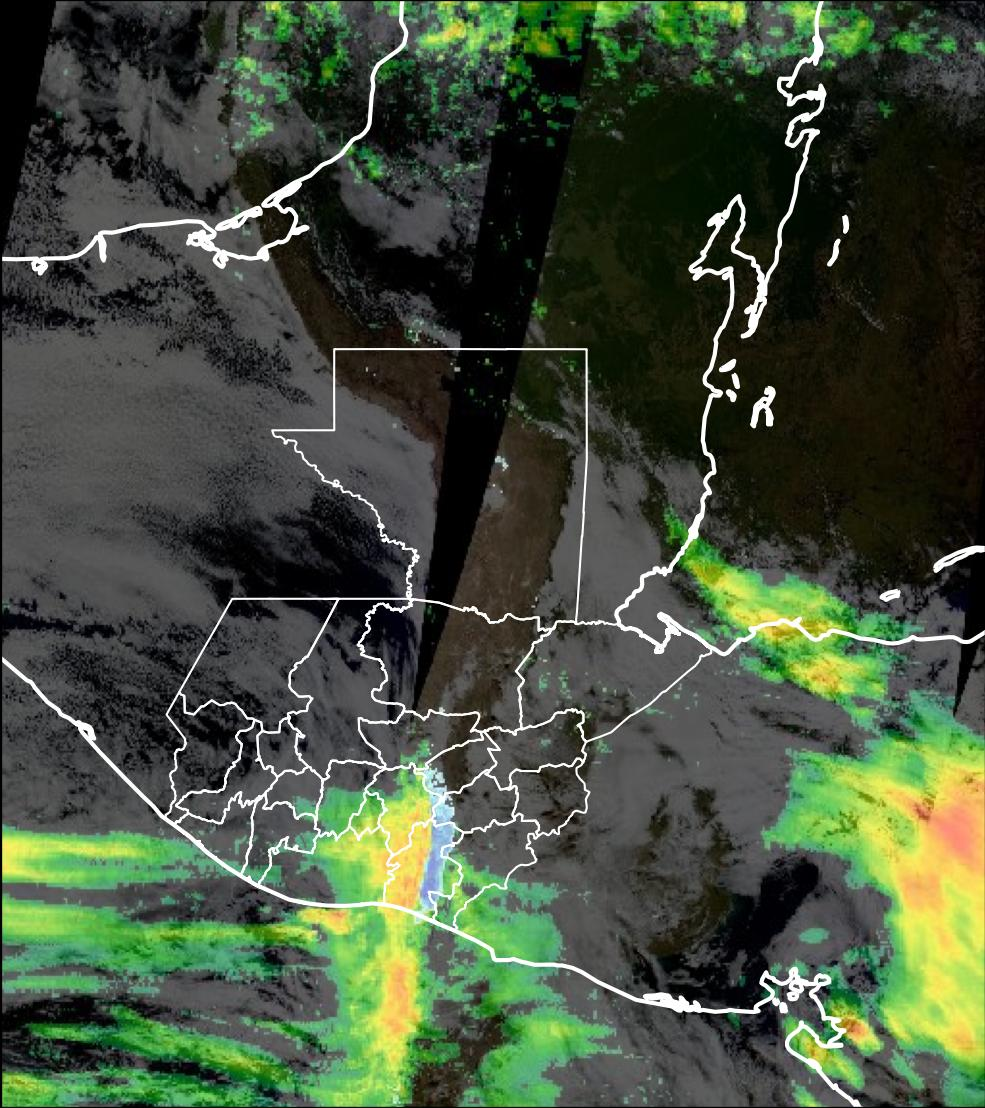precipitacion: (879, 746, 985, 934)
